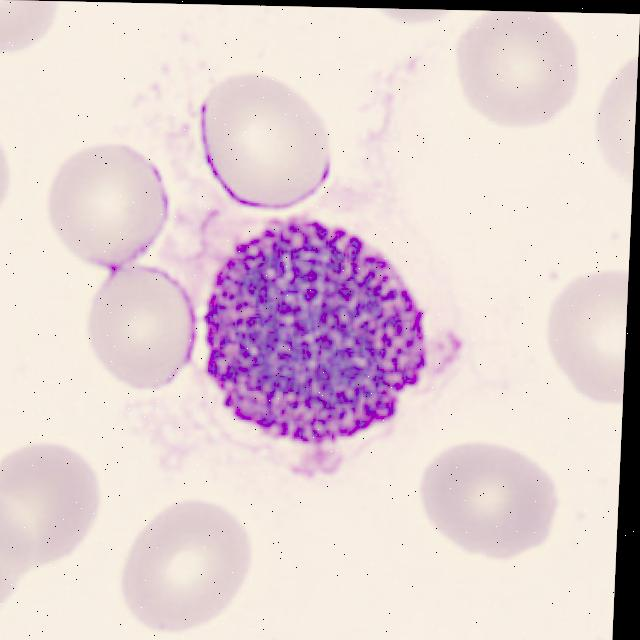basophil: (201, 213, 448, 483)
rbc: (188, 72, 339, 206), (421, 417, 564, 555), (128, 496, 275, 630), (40, 140, 181, 266), (449, 10, 585, 131), (527, 260, 629, 415), (83, 275, 203, 394), (0, 447, 114, 551), (590, 51, 638, 191), (0, 486, 38, 621), (0, 0, 74, 45), (0, 116, 28, 234)
